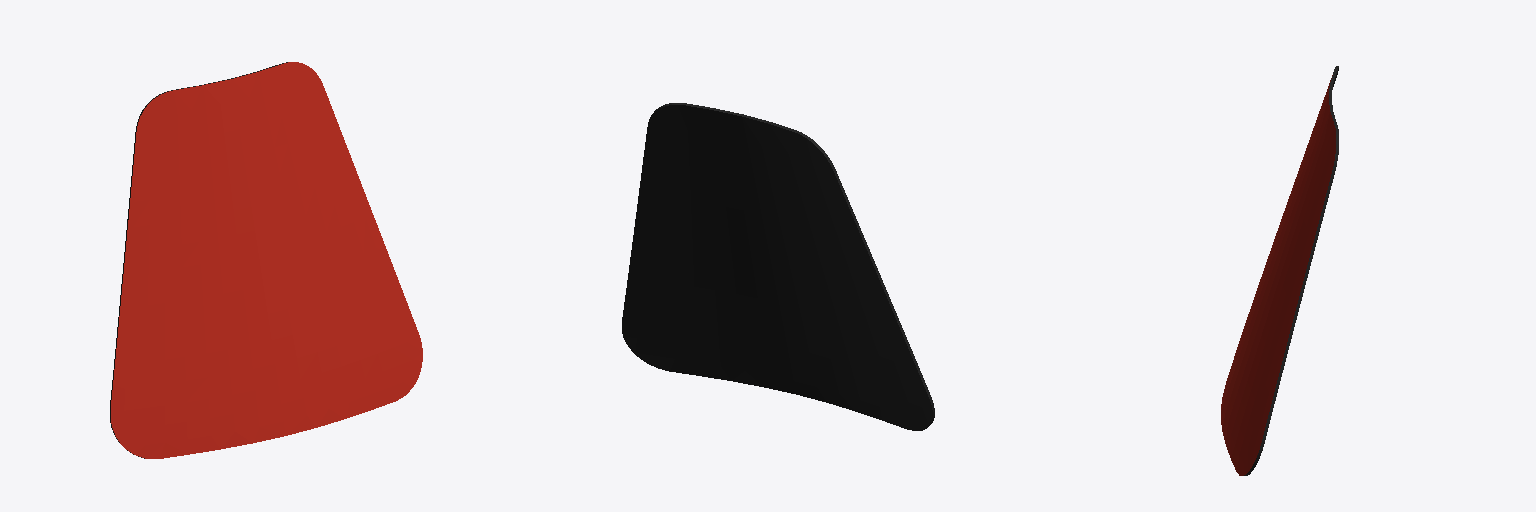
Rendered from Roll_hoop_cover_optimized.obj.
3 renders of one model, left to right at view 1: azimuth 30°, elevation 25°; view 2: azimuth 150°, elevation 25°; view 3: azimuth 270°, elevation 25°, orthographic.
Visible parts, largest first — view 1: roll hoop rear cover; view 2: roll hoop rear cover; view 3: roll hoop rear cover.
Boxes of the visible parts, x1=… form: roll hoop rear cover: x1=110, y1=62, x2=422, y2=458; roll hoop rear cover: x1=622, y1=103, x2=934, y2=430; roll hoop rear cover: x1=1221, y1=66, x2=1338, y2=475.
Size of the model in its own units: 332 by 325 by 110.